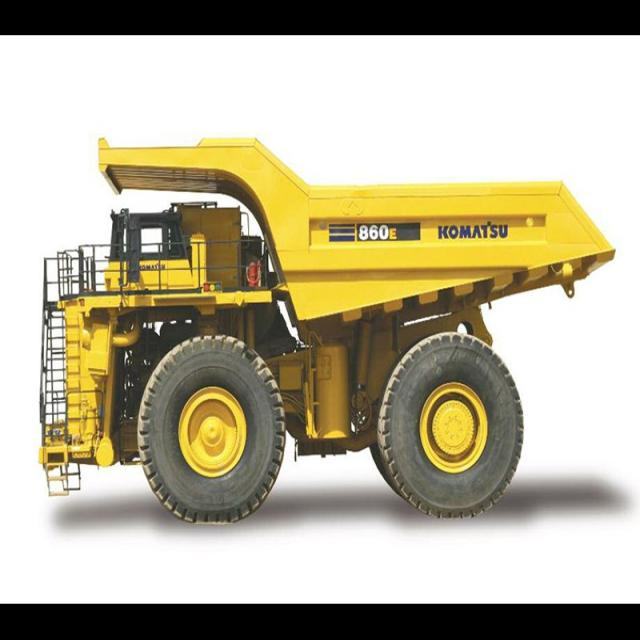dump_truck: (43, 122, 612, 532)
